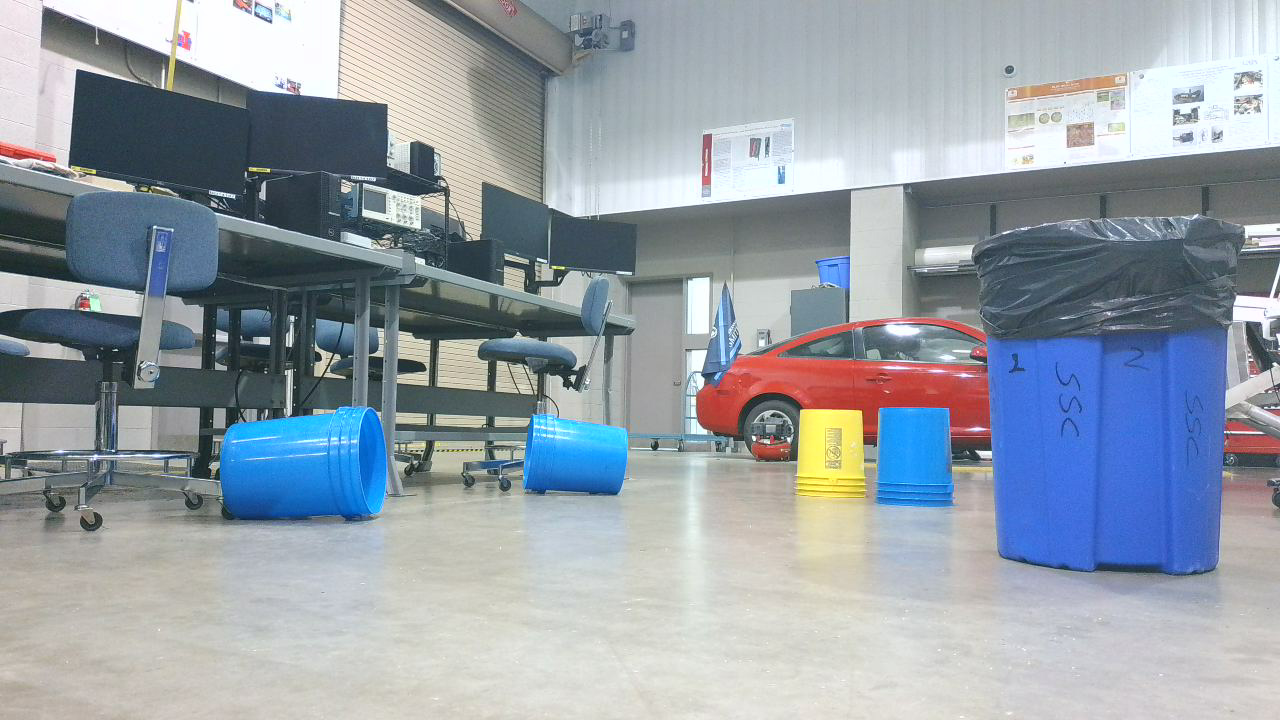blue_bucket: (221, 408, 397, 528), (525, 415, 637, 504), (878, 409, 962, 514)
yellow_bucket: (797, 412, 873, 505)
